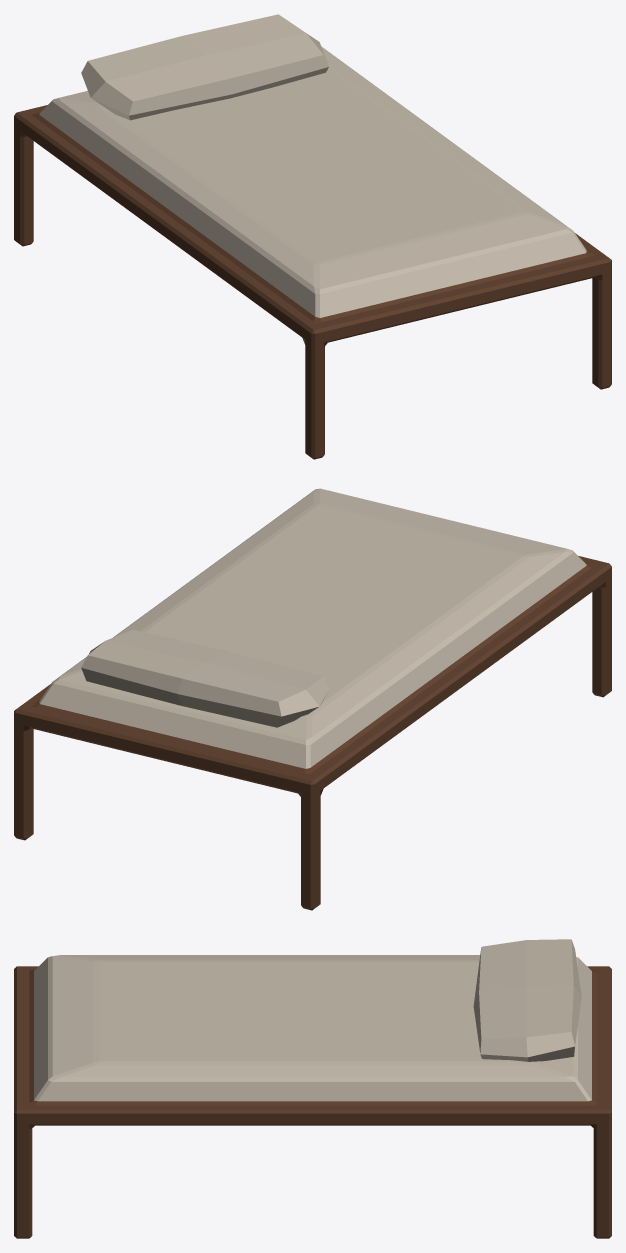
File: couch.fbx
3 views of the same model, one above another, from view 1: azimuth 30°, elevation 25°; view 2: azimuth 150°, elevation 25°; view 3: azimuth 270°, elevation 25° (orthographic).
Visible parts, largest first — view 1: Cube; view 2: Cube; view 3: Cube.
Part boxes in pixels (x1,y1,x2,y2): Cube: (14, 14, 611, 459); Cube: (14, 488, 611, 910); Cube: (14, 939, 611, 1238).
Bounding box in the file's own units: 200 × 116 × 346.
